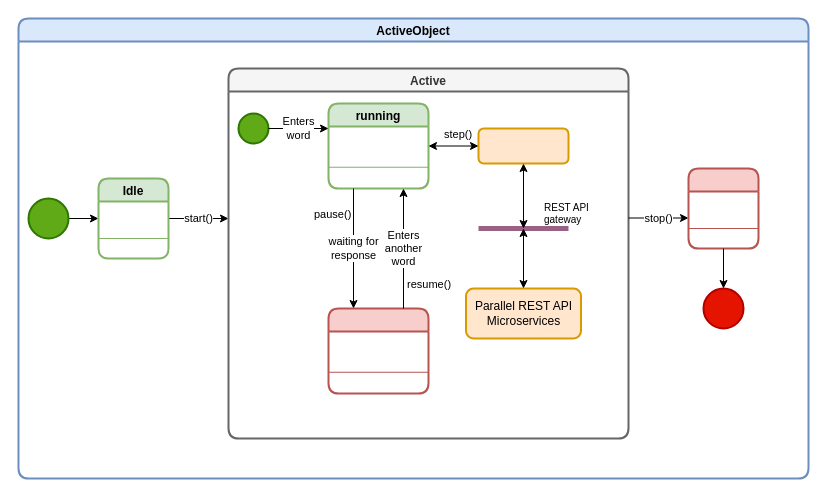
This 826x496 diagram has some shape labels left out. Here are the shapes that lost their labels. From the top down, the box of each, then its label:
(477, 127, 569, 164): RDF Schema
(687, 167, 759, 249): stopped
(327, 307, 429, 394): paused
